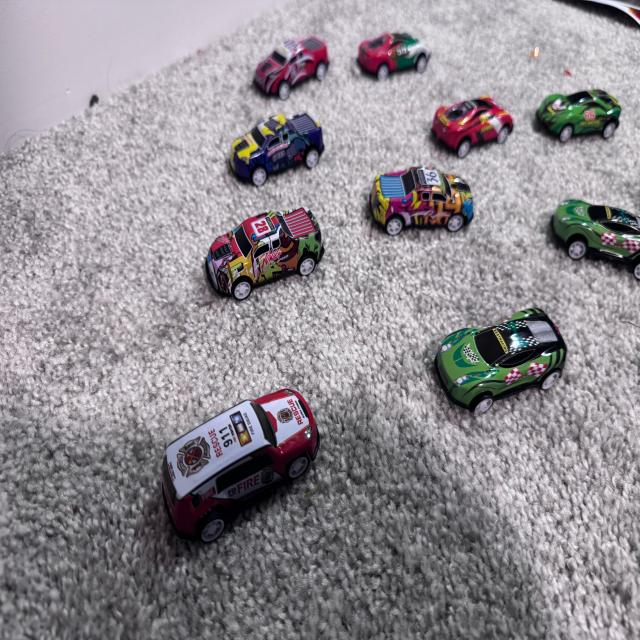car: (100, 354, 326, 528), (408, 288, 582, 417), (178, 195, 342, 317), (358, 155, 513, 241), (536, 173, 640, 291), (210, 102, 338, 194), (415, 87, 537, 158), (246, 25, 346, 107), (340, 0, 436, 85), (522, 74, 624, 148)
